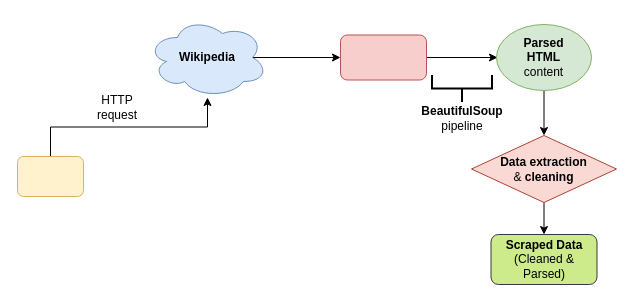
The diagram is 634 pixels wide and 302 high, and some of its shapes have lost their labels. The box of each missing label's shape, as (x1, y1, x2, y2) in pixels:
Client: (16, 156, 84, 196)
Raw HTML content: (340, 34, 426, 80)
